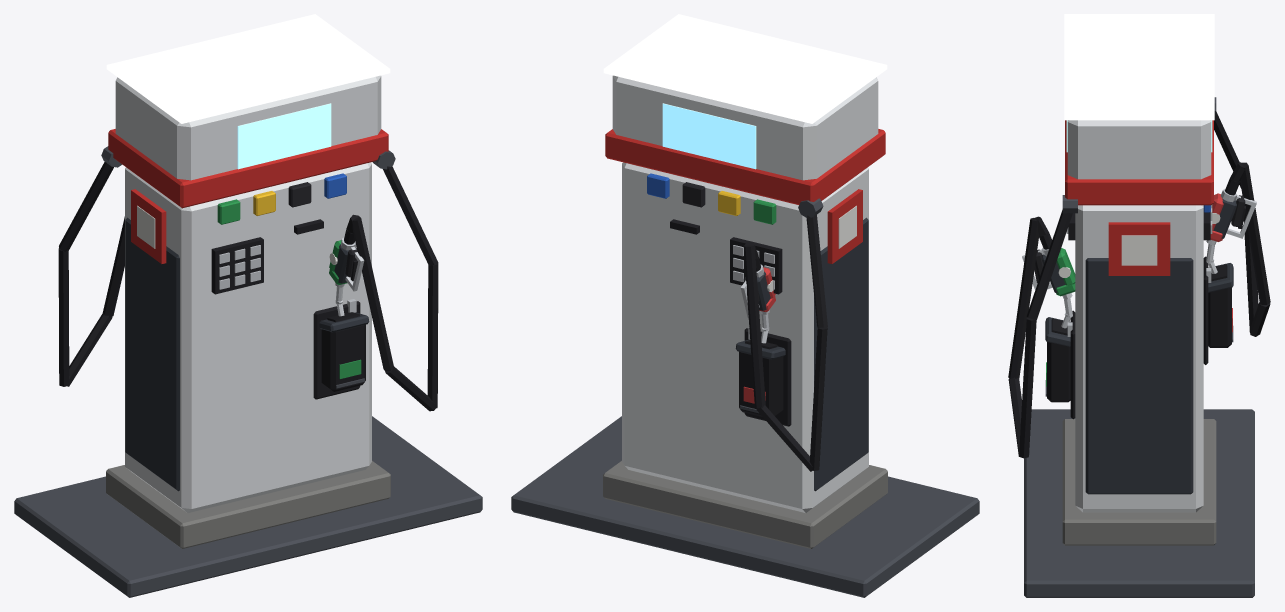
Rendered from Pump_Modern_Double.glb.
3 views of the same model, side by side, from view 1: azimuth 30°, elevation 25°; view 2: azimuth 150°, elevation 25°; view 3: azimuth 270°, elevation 25° (orthographic).
Visible parts, largest first — view 1: Pump_Modern_Double; view 2: Pump_Modern_Double; view 3: Pump_Modern_Double.
Part boxes in pixels (x1=…): Pump_Modern_Double: x1=14, y1=14, x2=482, y2=597; Pump_Modern_Double: x1=511, y1=14, x2=979, y2=597; Pump_Modern_Double: x1=1008, y1=14, x2=1270, y2=597.
Bounding box in the file's own units: 1.6 × 1.92 × 1.02.
1 material, 1 textured.
